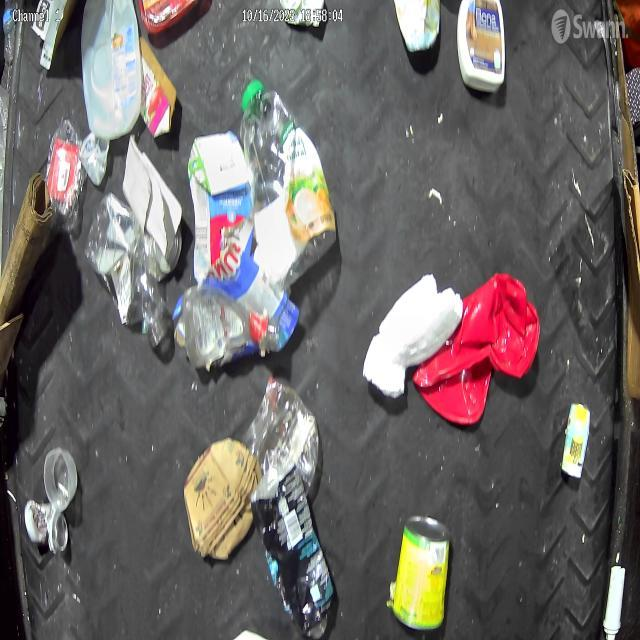can: (390, 512, 450, 632), (23, 501, 69, 556), (562, 402, 590, 479), (148, 229, 182, 271)
milk_jug: (80, 0, 141, 136)
non_white_jug: (412, 274, 540, 426), (187, 132, 252, 280), (183, 284, 280, 368), (456, 0, 504, 91), (138, 0, 197, 36)
plastic_bottle: (240, 80, 336, 292), (85, 191, 170, 348), (46, 116, 85, 232), (3, 0, 14, 63)
